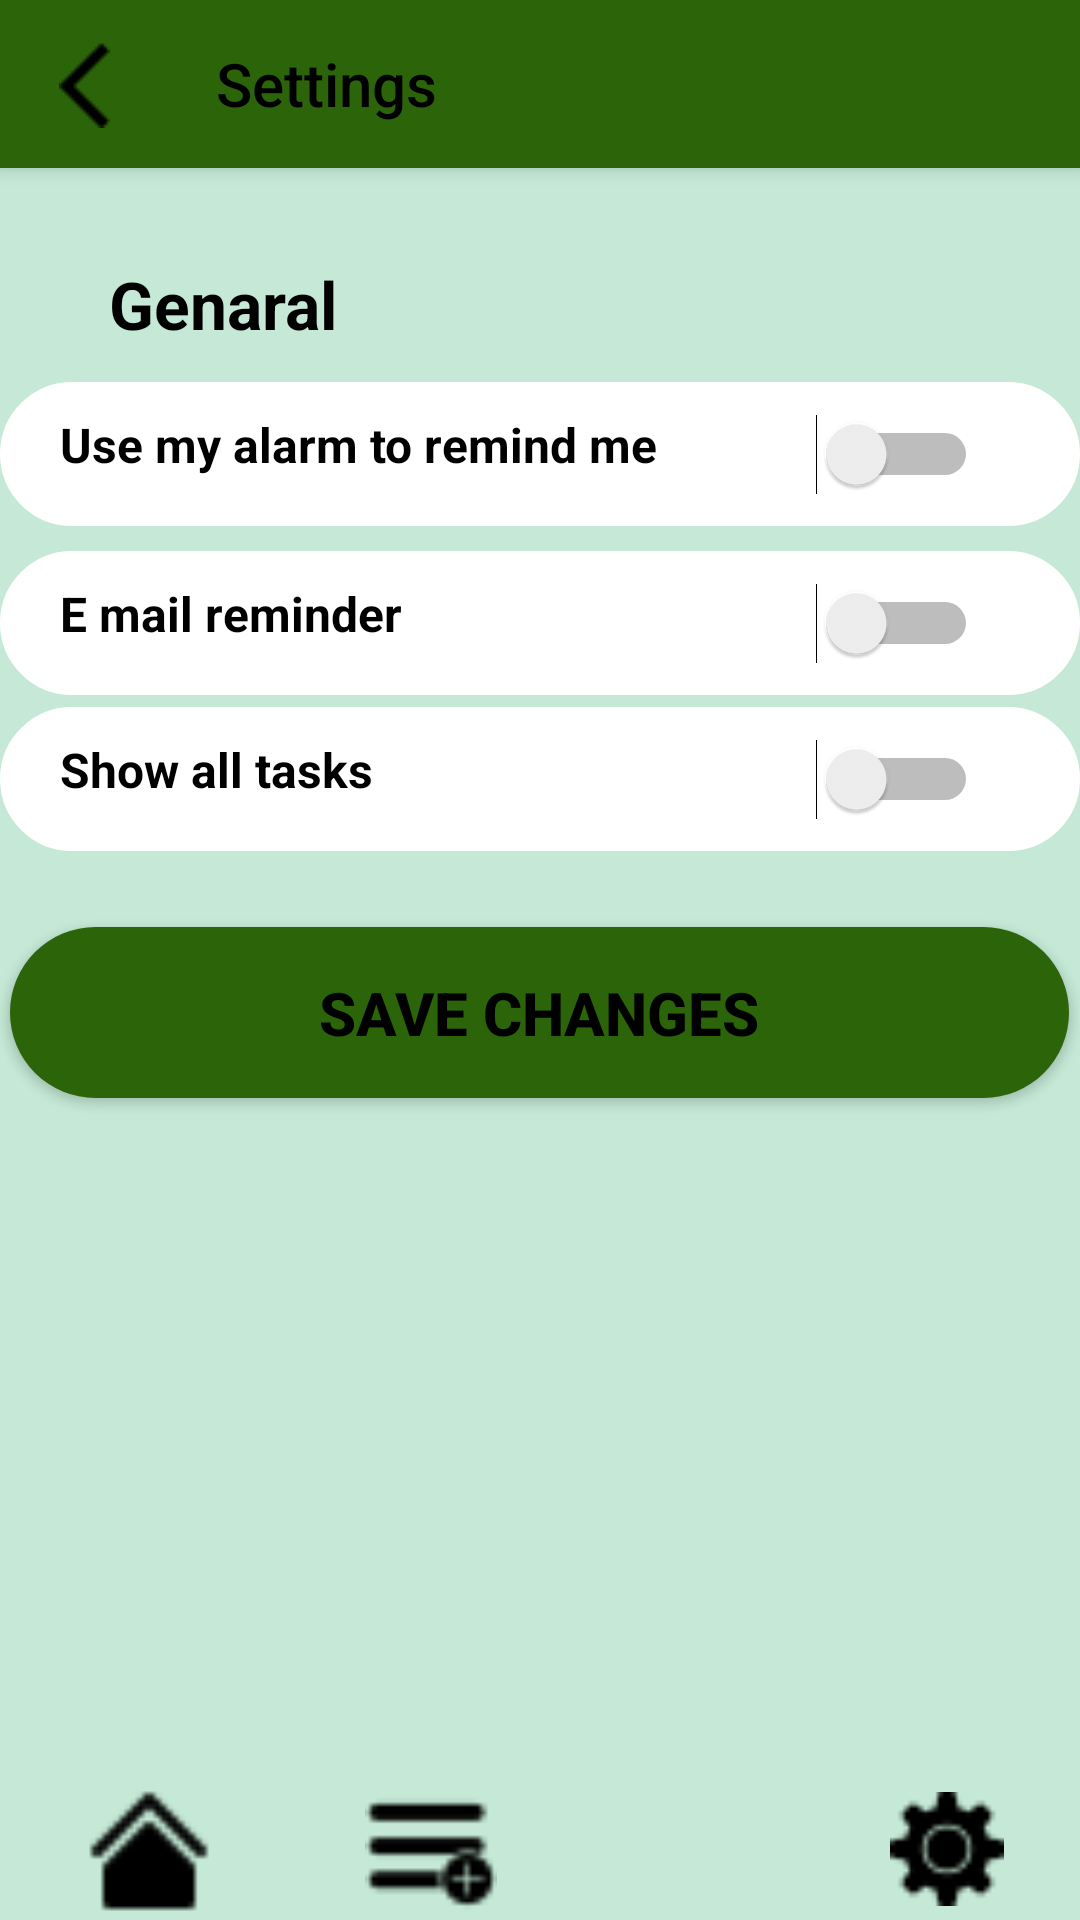

Named icons in this screenshot (1080w x 1920h) and their centers, point (x, y):
add task: point (431, 1854)
home: point (149, 1851)
settings: point (947, 1849)
